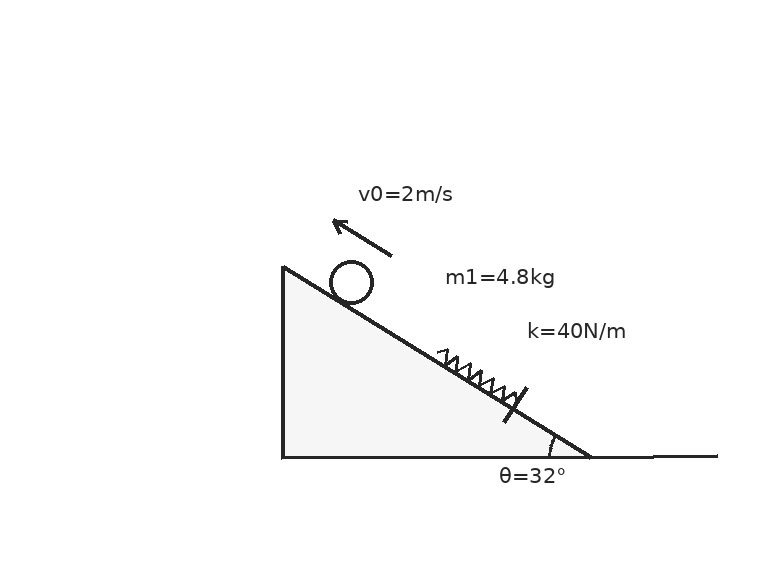ball: (327, 258, 375, 306)
ramp: (280, 263, 591, 459)
spring: (435, 347, 519, 403)
